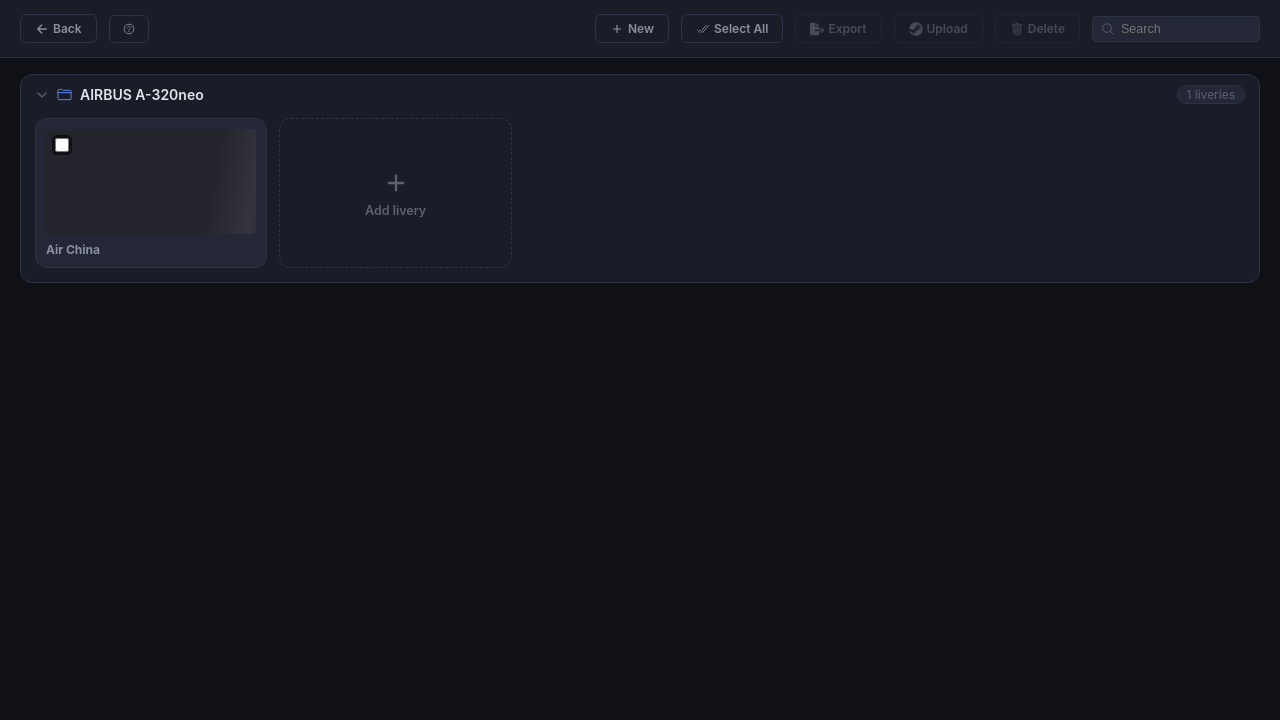
Test: LiveryScreen › Create opens the painter view, Back there returns to the list
This screenshot has width=1280, height=720.
Expected: the text "Air China" is shown, [46,242,100,257]
Click the button "New".
click(632, 28)  # box [595,14,669,43]
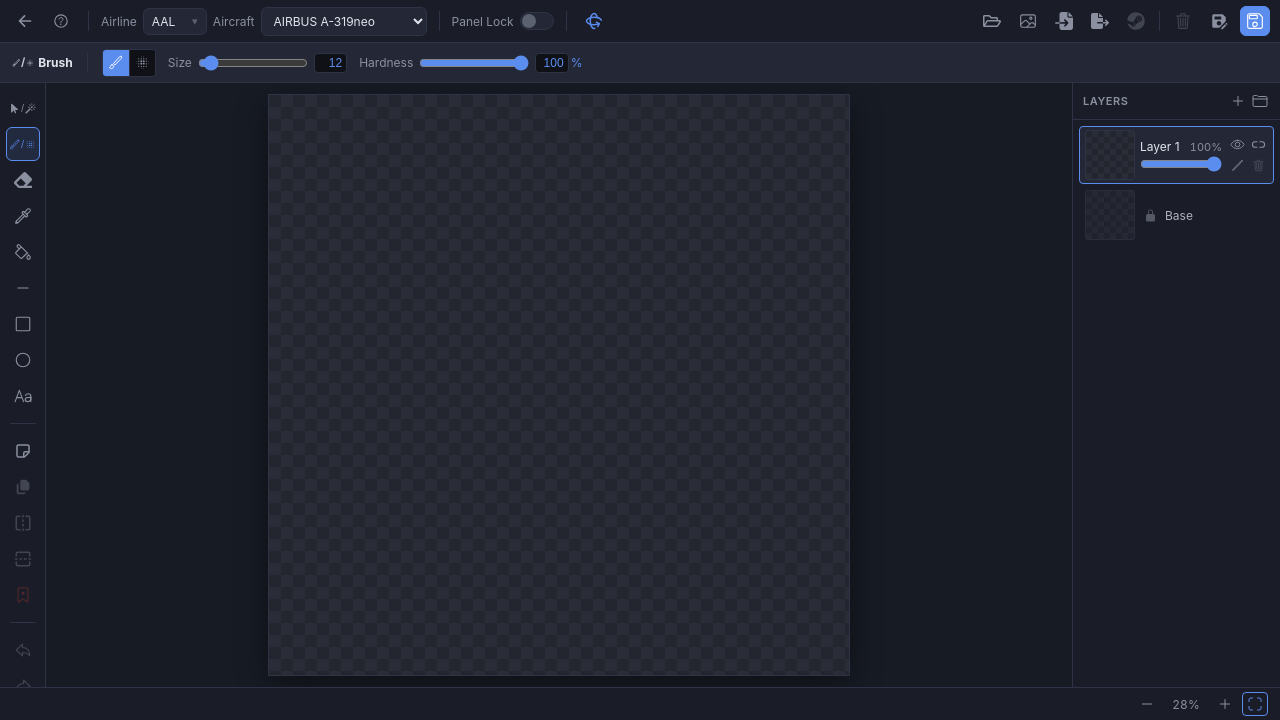
Expected: the element with class "livery-canvas-wrap" is shown
Expected: the button named "Save As" is shown, [1204,6,1234,36]
Expected: the button "Select All" is gone
Click the button named "Back".
click(25, 21)  # box [10,6,40,36]
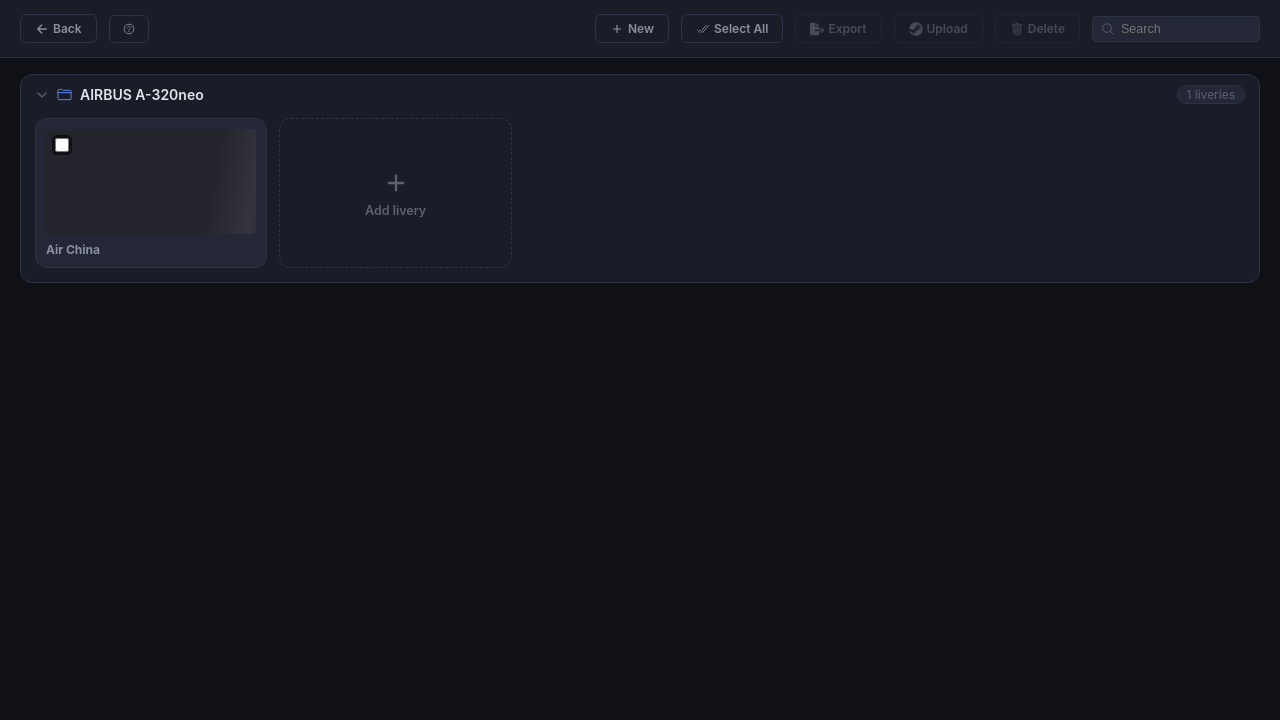
Expected: the text "Air China" is shown, [46,242,100,257]
